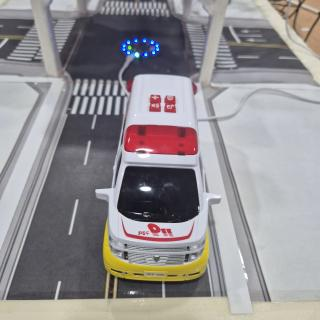Ambulance: (96, 74, 222, 281)
